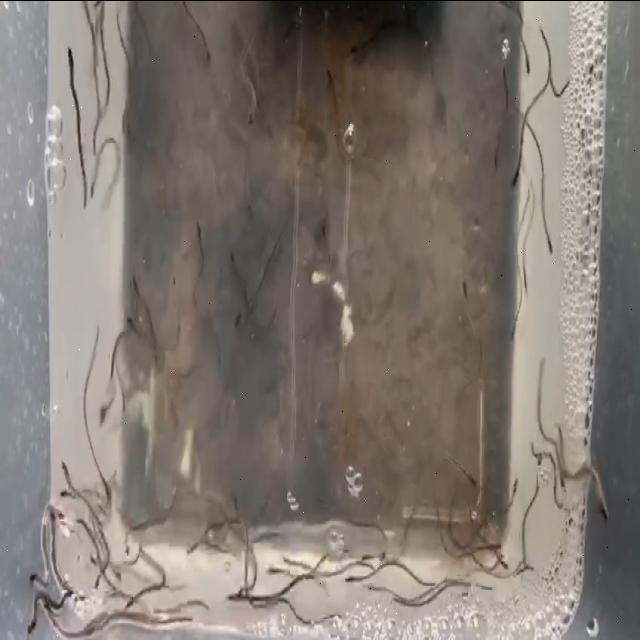inactive_glass_eel: (459, 460, 483, 498), (592, 491, 616, 526), (190, 204, 209, 248), (314, 218, 338, 252), (542, 211, 558, 261), (122, 272, 142, 306), (201, 23, 214, 73), (85, 165, 99, 211), (480, 530, 500, 562), (124, 564, 138, 609), (322, 62, 342, 92), (234, 302, 252, 334), (240, 103, 259, 133), (28, 557, 44, 592), (356, 541, 378, 566), (62, 43, 78, 77), (504, 316, 520, 350), (97, 396, 113, 428), (522, 46, 538, 78), (458, 272, 470, 314), (226, 245, 238, 286), (236, 198, 254, 225), (222, 586, 238, 616), (24, 607, 38, 640), (92, 562, 104, 600), (345, 556, 359, 588), (506, 469, 520, 501), (122, 310, 140, 334), (348, 32, 366, 56), (506, 164, 520, 194), (283, 550, 305, 568), (265, 560, 281, 584), (57, 456, 72, 481), (519, 270, 529, 294), (60, 484, 73, 500)
